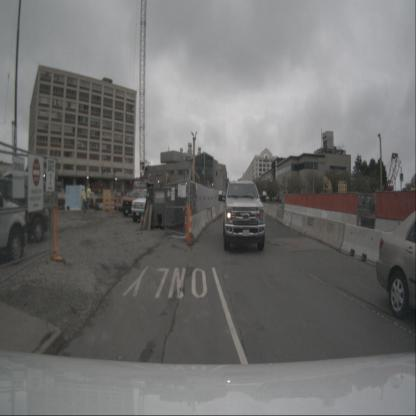barrier: (340, 223, 384, 267), (319, 218, 347, 252), (374, 218, 399, 248), (302, 214, 322, 241), (340, 212, 358, 236), (289, 212, 307, 234), (330, 211, 344, 234), (190, 213, 200, 241), (281, 209, 294, 228), (320, 209, 331, 227), (275, 207, 286, 224), (196, 212, 204, 235), (313, 208, 322, 225), (202, 209, 210, 228), (270, 205, 279, 220), (306, 207, 314, 222), (293, 205, 301, 219), (299, 206, 307, 220), (206, 208, 213, 224), (211, 206, 217, 222), (283, 204, 291, 216), (214, 205, 220, 218), (288, 204, 294, 217), (268, 205, 274, 218), (264, 203, 269, 215), (219, 203, 223, 216), (221, 203, 224, 212)
cone: (186, 207, 194, 246), (184, 207, 190, 243), (110, 197, 115, 213), (358, 216, 362, 235), (104, 198, 109, 212), (116, 196, 119, 214), (120, 196, 123, 212)
